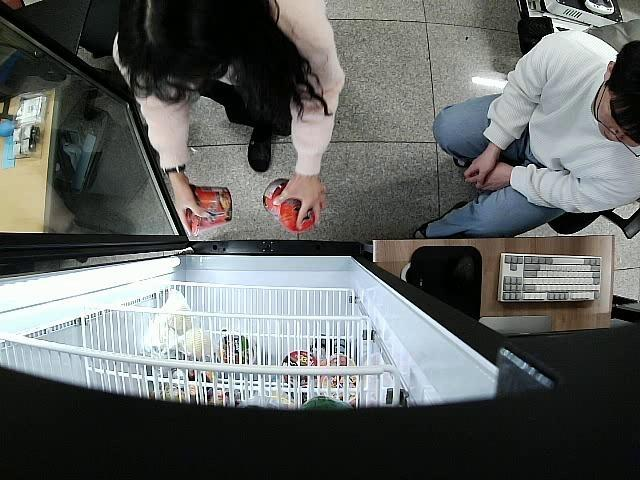01_ShinRamen_L: (262, 177, 318, 233), (186, 181, 234, 234)
